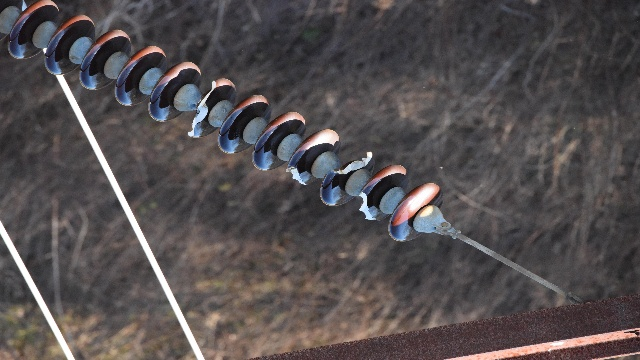broken_local: (186, 78, 221, 137), (330, 148, 374, 177), (357, 188, 382, 226), (282, 160, 311, 189)
insulator_unspecified: (7, 1, 441, 242)
